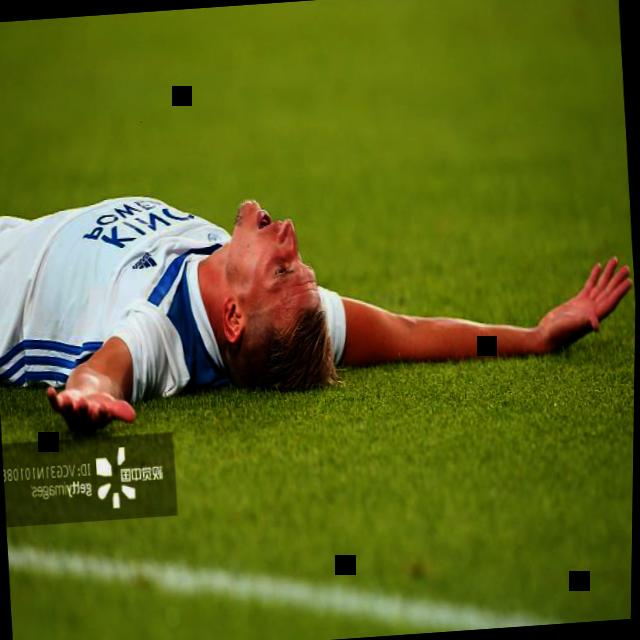Fall-Detected: (0, 100, 638, 438)
